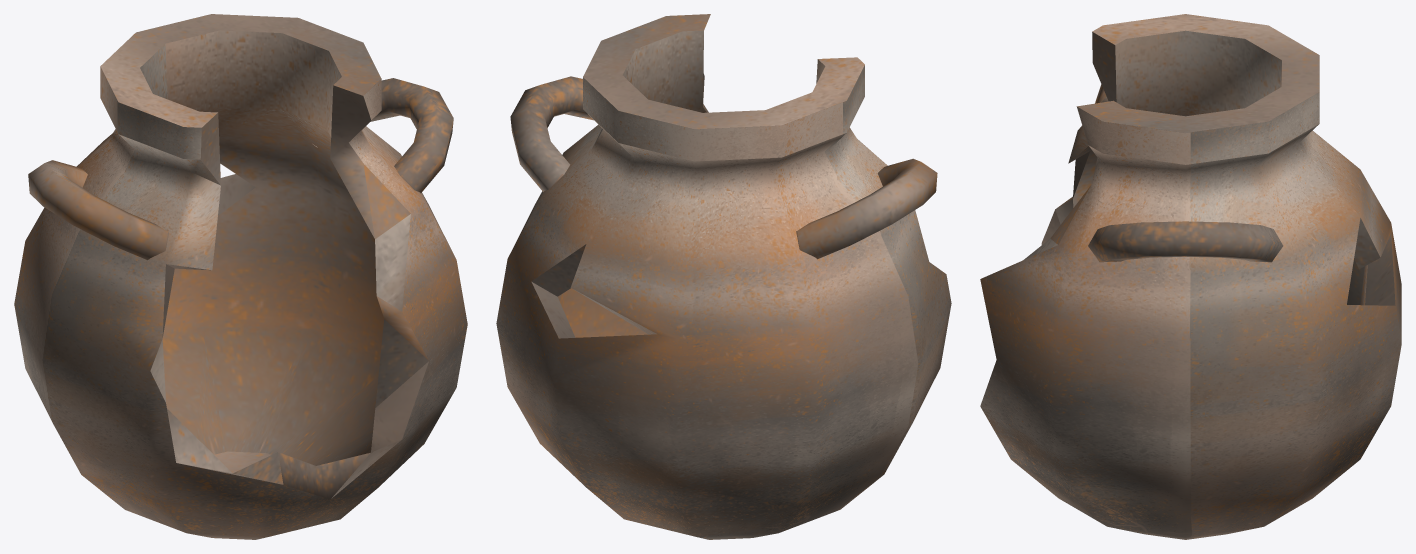
The model's file is PotSmallBroken.fbx.
3 views of the same model, side by side, from view 1: azimuth 30°, elevation 25°; view 2: azimuth 150°, elevation 25°; view 3: azimuth 270°, elevation 25° (orthographic).
Visible parts, largest first — view 1: SmallBroken; view 2: SmallBroken; view 3: SmallBroken.
Part boxes in pixels (x1=…): SmallBroken: x1=14, y1=14, x2=467, y2=539; SmallBroken: x1=496, y1=14, x2=951, y2=539; SmallBroken: x1=980, y1=14, x2=1401, y2=539.
Size of the model in its own units: 1.17 by 1.23 by 1.08.
